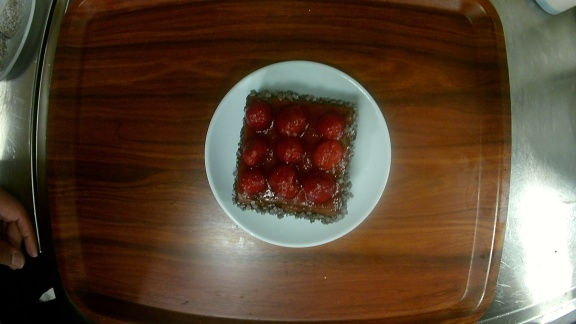cileklipasta: (204, 60, 393, 248)
